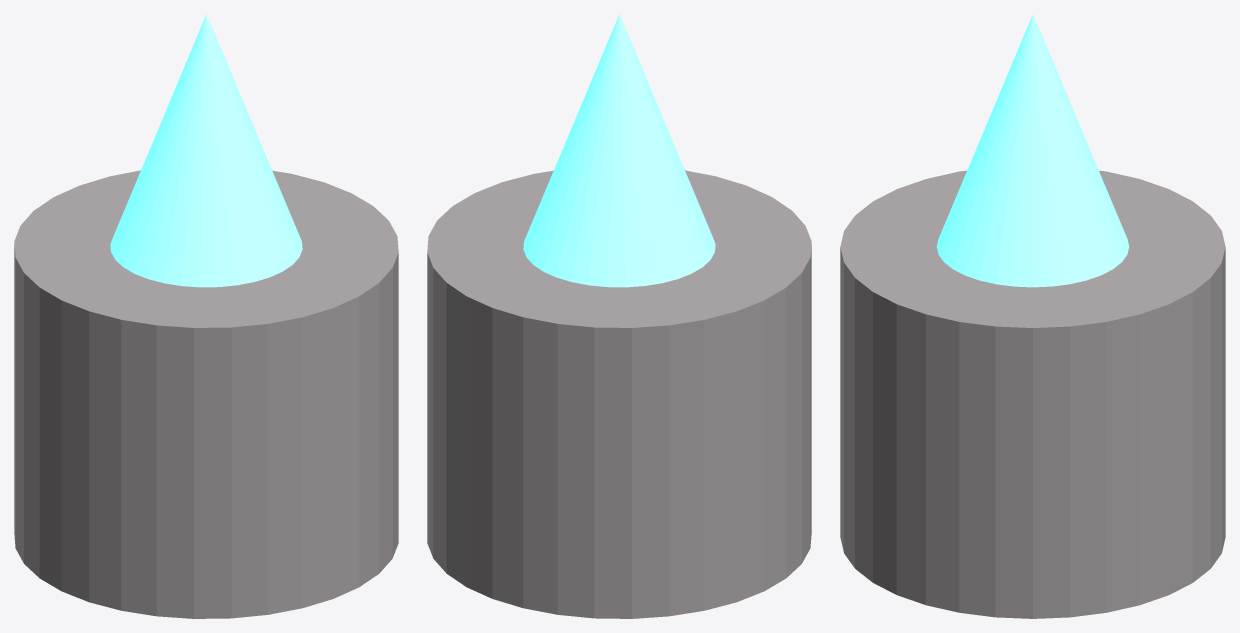
The model's file is crystal_pedestal.glb.
The picture shows the model from 3 angles, left to right: view 1: azimuth 30°, elevation 25°; view 2: azimuth 150°, elevation 25°; view 3: azimuth 270°, elevation 25°; orthographic projection.
Visible parts, largest first — view 1: Cylinder, Cone; view 2: Cylinder, Cone; view 3: Cylinder, Cone.
Part boxes in pixels (bbox=[...]): Cylinder: bbox=[14, 170, 398, 618]; Cone: bbox=[110, 14, 302, 287]; Cylinder: bbox=[427, 170, 811, 618]; Cone: bbox=[523, 14, 715, 287]; Cylinder: bbox=[840, 170, 1225, 618]; Cone: bbox=[936, 14, 1129, 287].
Size of the model in its own units: 1.2 by 1.8 by 1.2.
